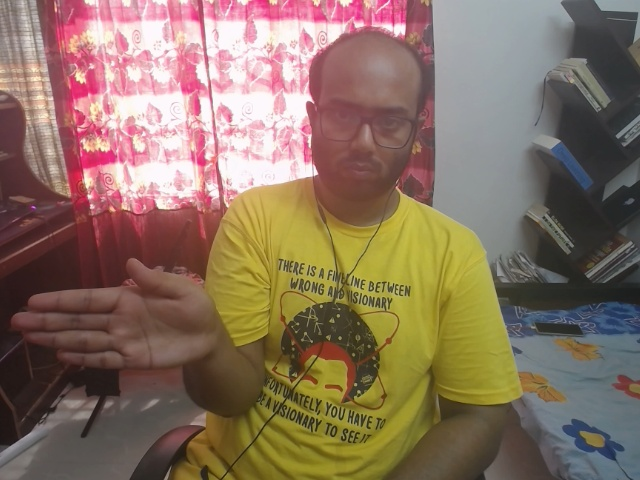south: (7, 249, 238, 384)
